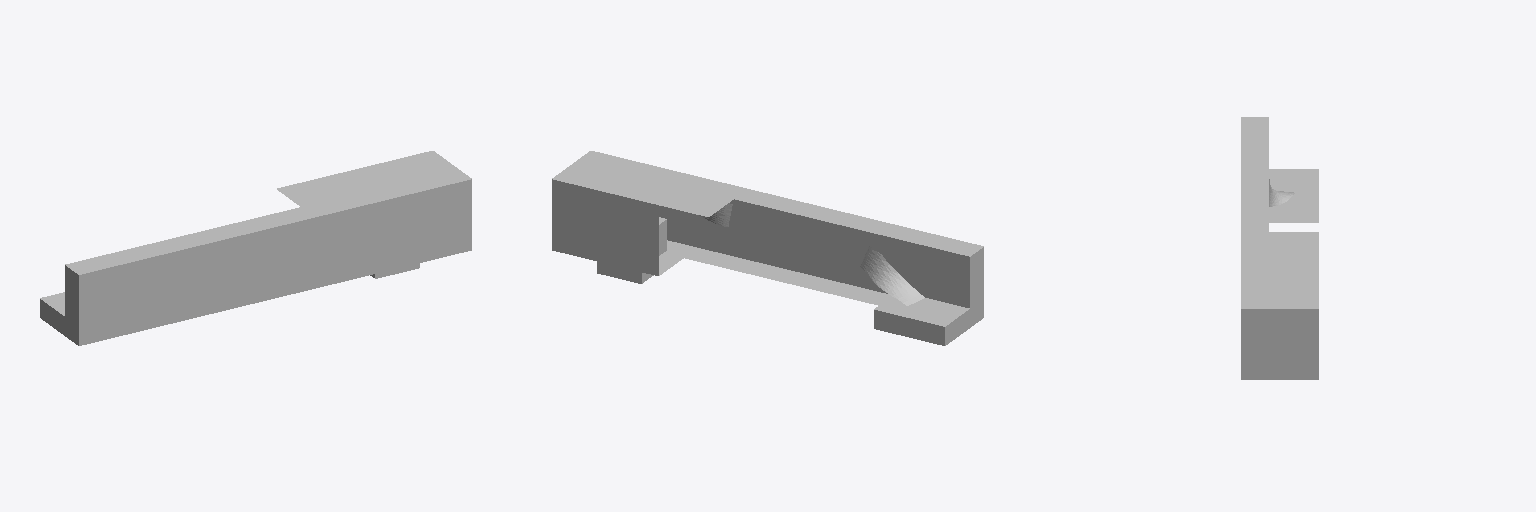
Rendered from tricky_area.obj.
The picture shows the model from 3 angles: view 1: azimuth 30°, elevation 25°; view 2: azimuth 150°, elevation 25°; view 3: azimuth 270°, elevation 25°; orthographic projection.
Visible parts, largest first — view 1: Plane.003; view 2: Plane.003; view 3: Plane.003.
Boxes of the visible parts, x1,y1,x2,y2 form: Plane.003: [40, 151, 471, 345]; Plane.003: [552, 151, 983, 345]; Plane.003: [1241, 117, 1318, 379].
Size of the model in its own units: 73.94 by 15.52 by 12.78.